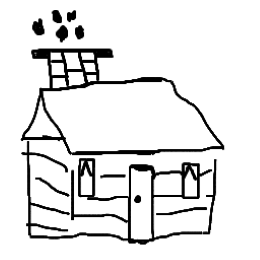door: (125, 160, 160, 246)
open_window: (180, 157, 207, 203), (73, 156, 100, 199)
roof: (20, 71, 232, 154)
smoking_chimney: (22, 4, 120, 94)
wall: (22, 140, 228, 248)
